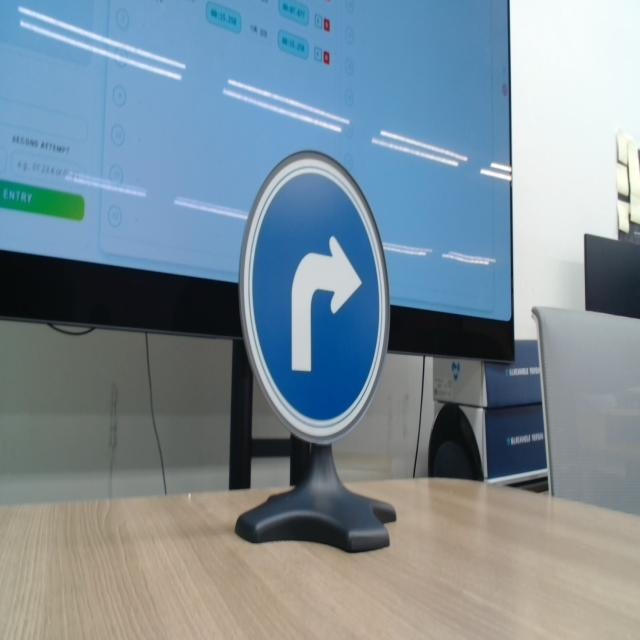right_dierection: (233, 130, 404, 444)
